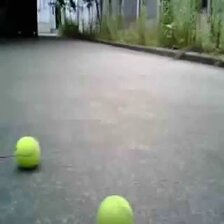tennis: (95, 194, 137, 224), (15, 138, 41, 167)
